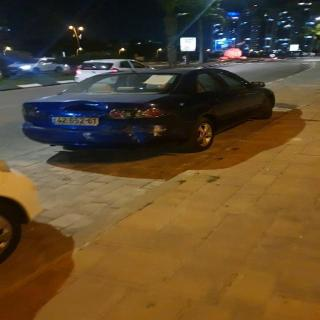LicensePlate: (56, 117, 99, 125)
